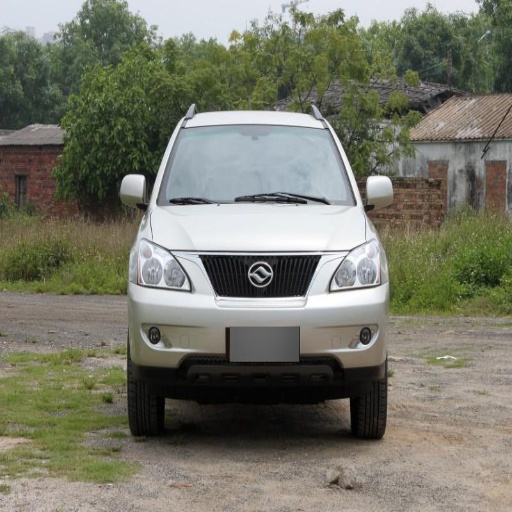back_right_light: (130, 250, 388, 390)
front_bumper: (158, 124, 356, 205)
front_left_door: (327, 240, 387, 291)
front_right_door: (131, 239, 192, 290)
front_right_light: (149, 205, 369, 250)
hood: (364, 175, 394, 209)
left_mirror: (120, 174, 146, 208)
trunk: (128, 366, 164, 437), (349, 376, 387, 438)
